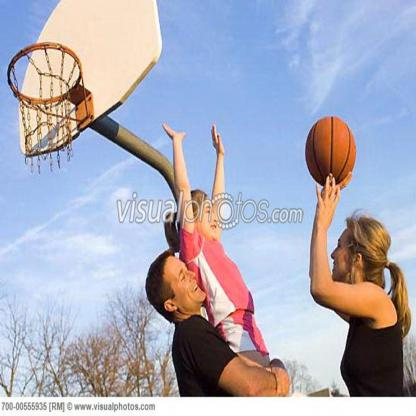face: (165, 255, 207, 302), (331, 222, 363, 280), (196, 194, 219, 237)
